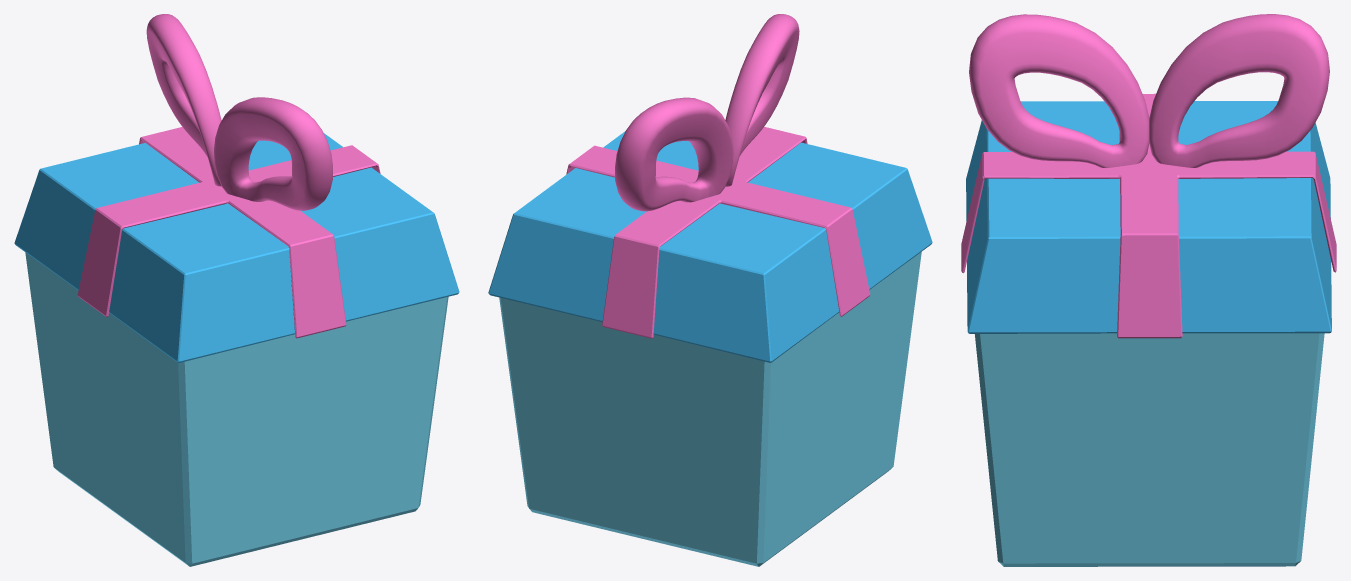
File: Piggy Bank-Gift Box-Blue-With Cover.fbx
3 views of the same model, side by side, from view 1: azimuth 30°, elevation 25°; view 2: azimuth 150°, elevation 25°; view 3: azimuth 270°, elevation 25° (orthographic). The views are drawn at different scales.
Parts seen in each view (by area): view 1: Piggy Bank-Gift Box-Under, Piggy Bank-Gift Box-Cover, NurbsPath; view 2: Piggy Bank-Gift Box-Under, Piggy Bank-Gift Box-Cover, NurbsPath; view 3: Piggy Bank-Gift Box-Under, Piggy Bank-Gift Box-Cover, NurbsPath.
Boxes of the visible parts, x1,y1,x2,y2 form: Piggy Bank-Gift Box-Under: (25, 252, 448, 566); Piggy Bank-Gift Box-Cover: (14, 127, 459, 362); NurbsPath: (146, 14, 332, 210); Piggy Bank-Gift Box-Under: (499, 252, 921, 566); Piggy Bank-Gift Box-Cover: (488, 126, 932, 362); NurbsPath: (615, 14, 799, 211); Piggy Bank-Gift Box-Under: (975, 333, 1324, 566); Piggy Bank-Gift Box-Cover: (961, 93, 1336, 338); NurbsPath: (969, 14, 1329, 167).
Bounding box in the file's own units: 28.78 × 40.81 × 28.78.
